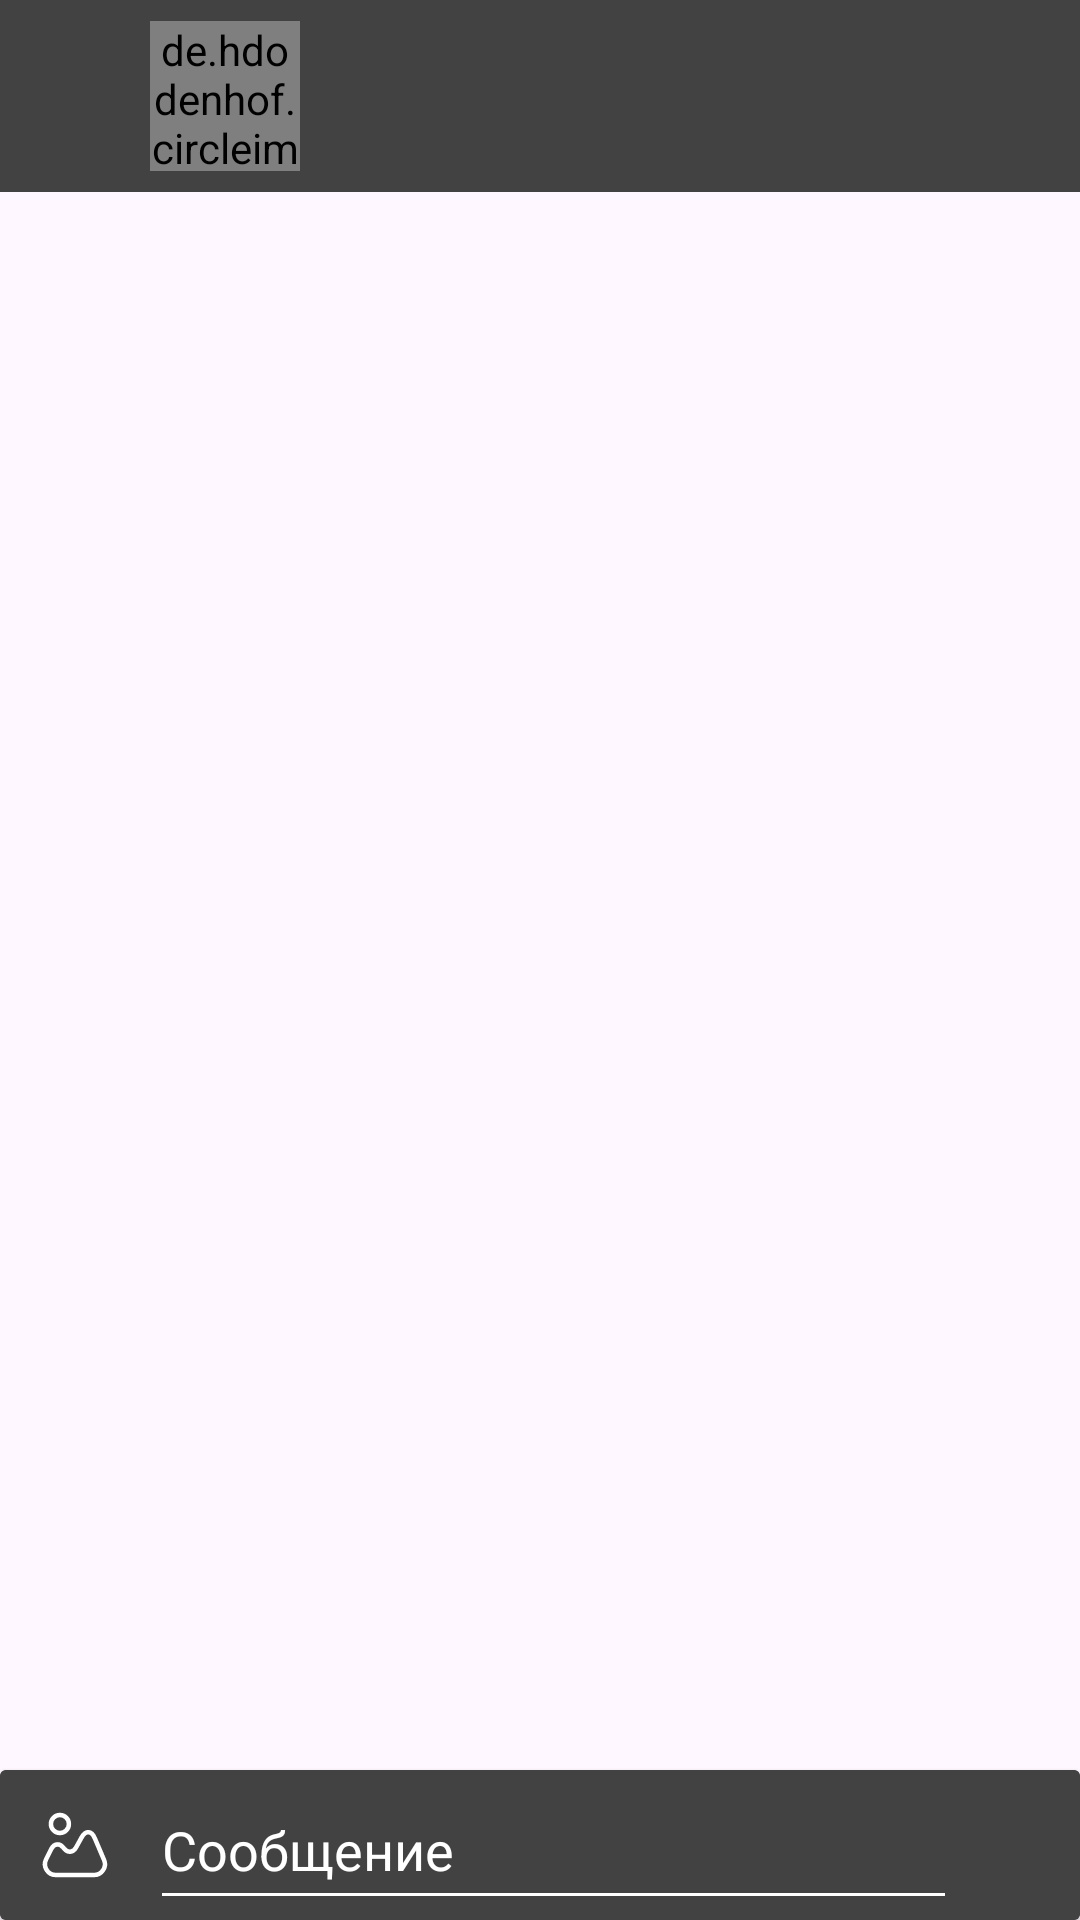

Locate icon controls on the screen. Image size 1080 x 1920, boxes as Rect(x1, y1, x2, y2).
insert photo: Rect(0, 1812, 108, 1920)
